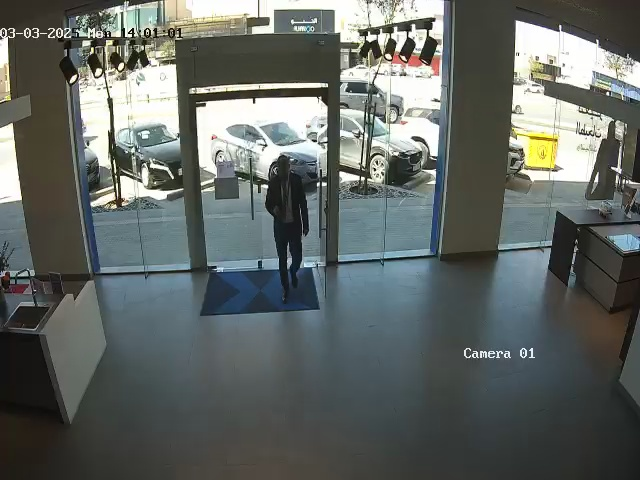employee: (264, 154, 310, 305)
other: (584, 96, 628, 221)
